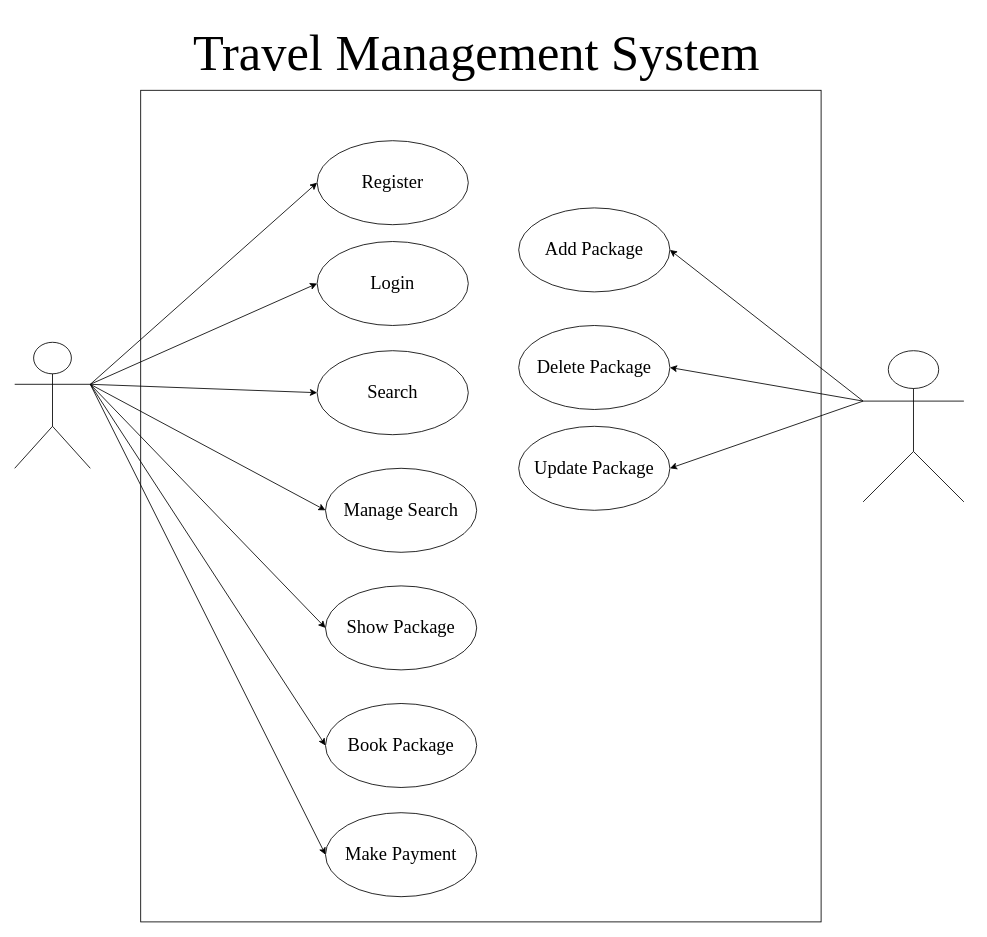
The diagram is 987 pixels wide and 937 high, and some of its shapes have lost their labels. Each missing label, with the centre of its shape:
Customer: the point at 52,404
Travel Manager: the point at 913,426
